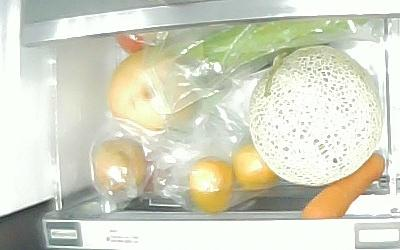carrot: (300, 152, 385, 217)
melon: (247, 44, 384, 187)
pear: (106, 46, 202, 133)
prune_vinyl: (91, 137, 148, 199)
tangerine_vinyl: (189, 156, 235, 216), (232, 143, 284, 188)
zucchini_vinyl: (186, 18, 369, 69)
